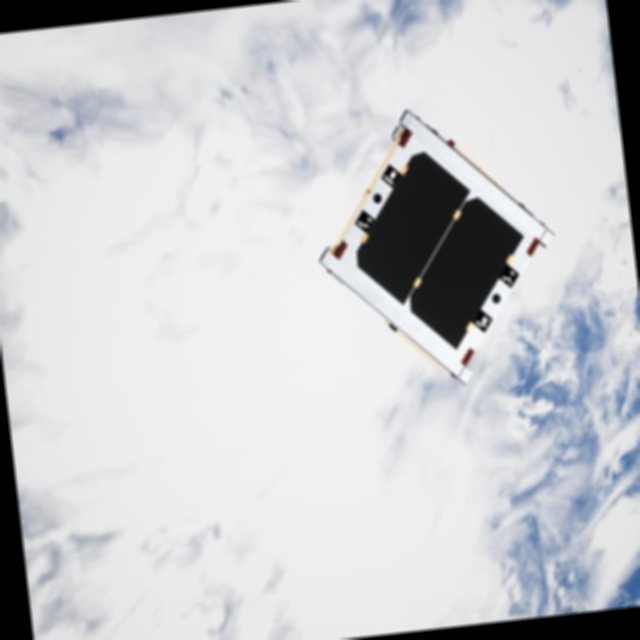medium_debris: (290, 91, 579, 407)
